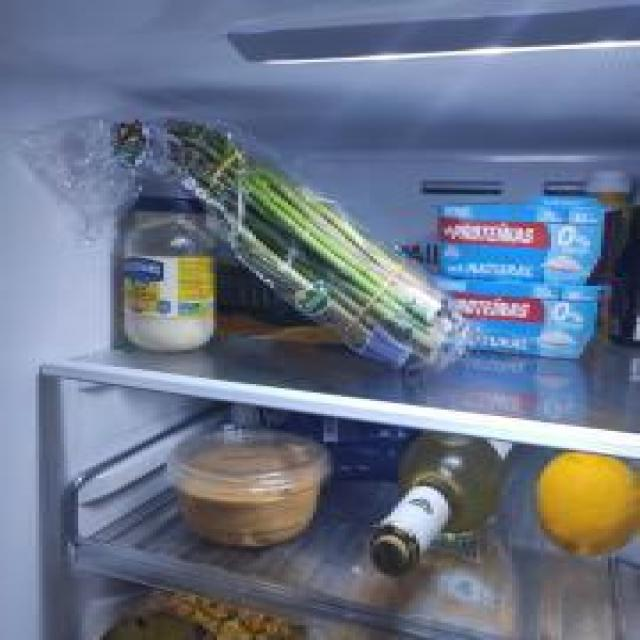asparagus: (6, 115, 486, 376)
humus: (169, 428, 336, 551)
lemon: (533, 448, 640, 557)
mayonaise: (119, 194, 219, 352)
pineapple: (100, 582, 306, 640)
